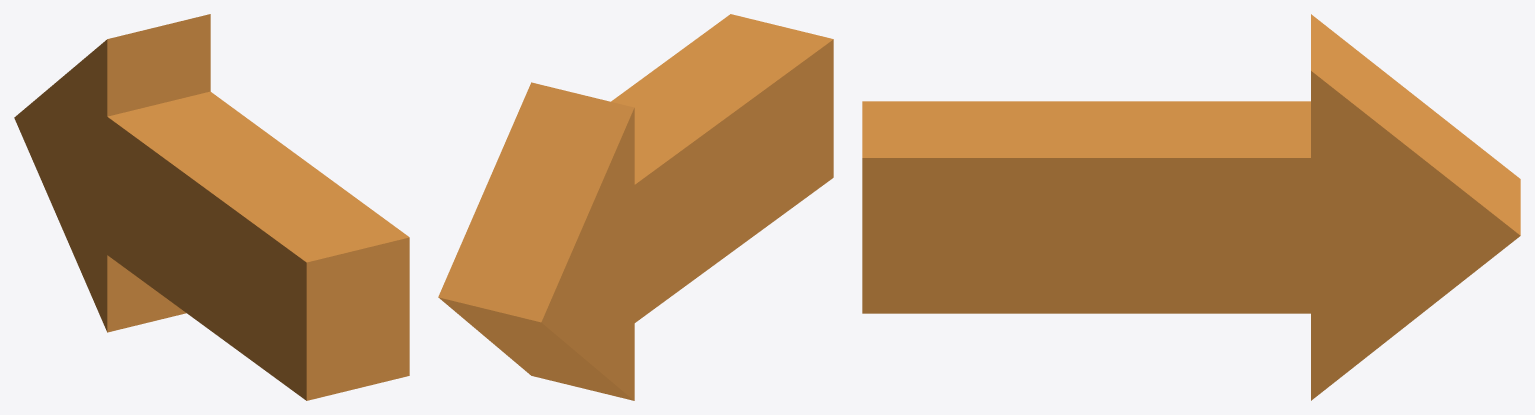
The model's file is arrow.glb.
The picture shows the model from 3 angles, left to right: view 1: azimuth 30°, elevation 25°; view 2: azimuth 150°, elevation 25°; view 3: azimuth 270°, elevation 25°; orthographic projection. The views are drawn at different scales.
Visible parts, largest first — view 1: Cube; view 2: Cube; view 3: Cube.
Boxes of the visible parts, x1,y1,x2,y2 form: Cube: [14, 14, 409, 400]; Cube: [438, 14, 833, 400]; Cube: [862, 14, 1520, 400].
Bounding box in the file's own units: 1.56 × 4.24 × 7.66.
